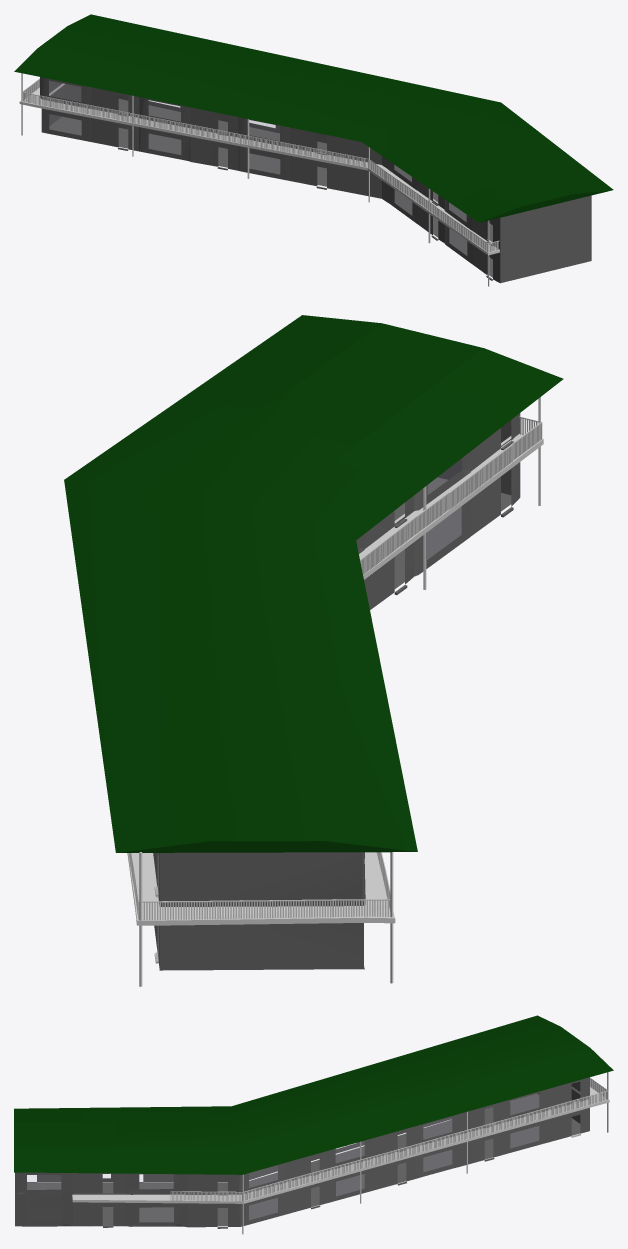
File: motel9.fbx
The picture shows the model from 3 angles, top to bottom: view 1: azimuth 30°, elevation 25°; view 2: azimuth 150°, elevation 25°; view 3: azimuth 270°, elevation 25°; orthographic projection. The views are drawn at different scales.
Parts seen in each view (by area): view 1: polySurface232, polySurface233, polySurface142; view 2: polySurface232, polySurface233, polySurface142, polySurface181, polySurface183; view 3: polySurface232, polySurface233, polySurface142, polySurface80, polySurface77, polySurface234, polySurface83, polySurface81, polySurface84, polySurface78.
Boxes of the visible parts, x1,y1,x2,y2 form: polySurface232: [14, 14, 613, 222]; polySurface233: [40, 77, 591, 283]; polySurface142: [19, 83, 499, 255]; polySurface232: [64, 315, 563, 852]; polySurface233: [153, 413, 520, 970]; polySurface142: [127, 433, 543, 925]; polySurface181: [206, 900, 270, 919]; polySurface183: [143, 901, 205, 919]; polySurface232: [14, 1015, 613, 1174]; polySurface233: [15, 1081, 588, 1228]; polySurface142: [72, 1086, 609, 1203]; polySurface80: [328, 1122, 502, 1202]; polySurface77: [328, 1102, 502, 1169]; polySurface234: [27, 1166, 277, 1221]; polySurface83: [503, 1111, 546, 1154]; polySurface81: [546, 1108, 589, 1142]; polySurface84: [503, 1089, 546, 1121]; polySurface78: [546, 1077, 589, 1109].
Bounding box in the file's own units: 36.49 × 7.98 × 58.43.
